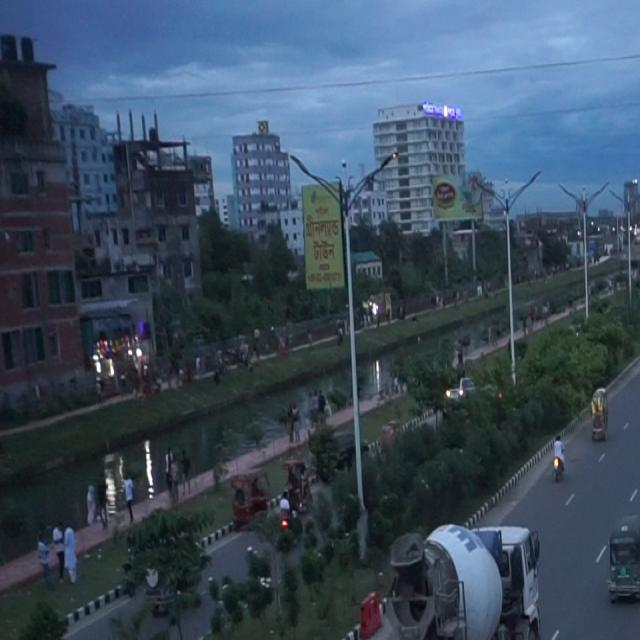van: (363, 489, 566, 640)
